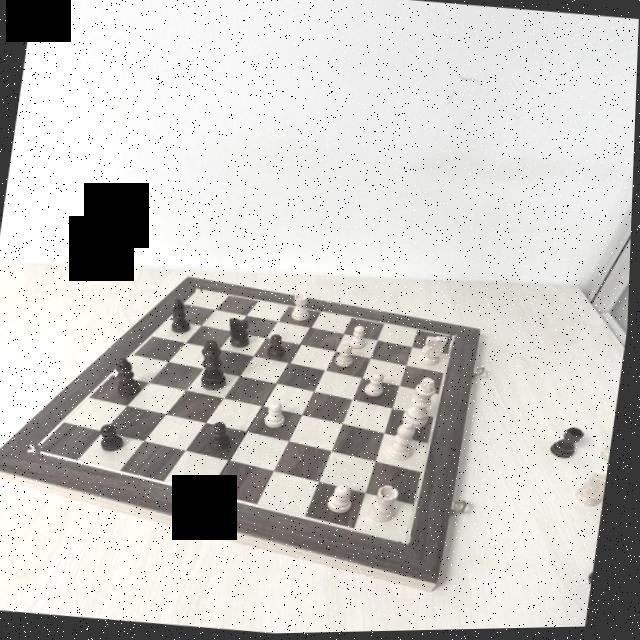chess-table-corners: (401, 535, 416, 549), (30, 443, 44, 455), (450, 333, 459, 342), (196, 286, 204, 292)
